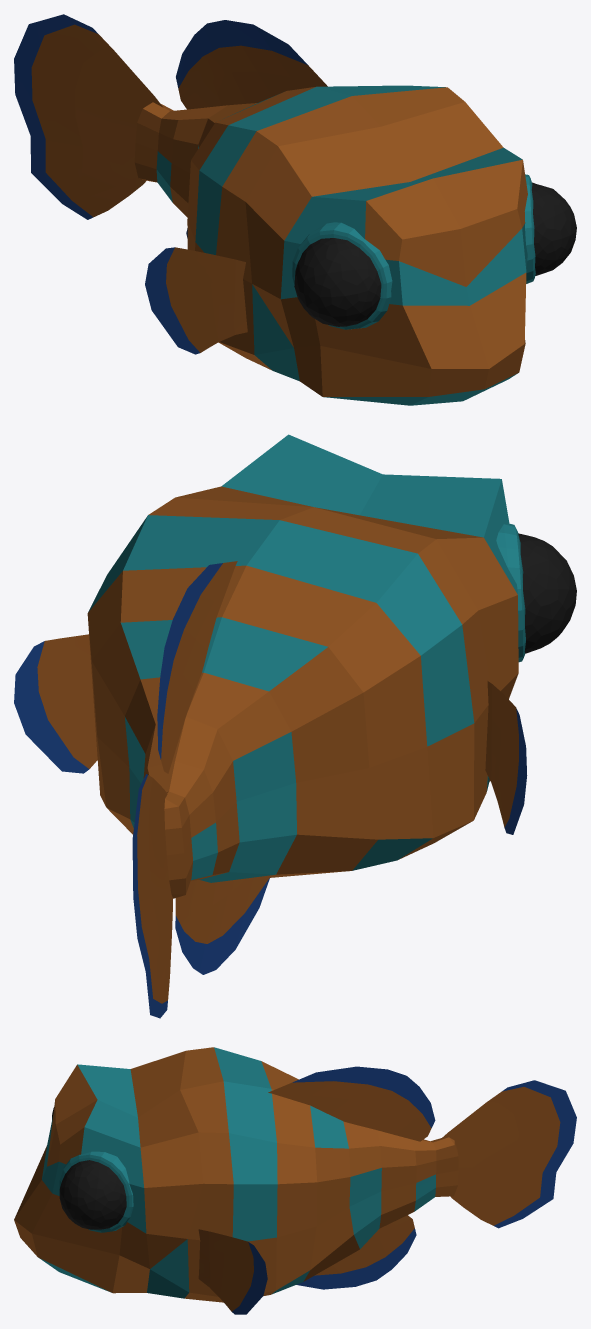
File: Mandarinfish.glb
3 views of the same model, one above another, from view 1: azimuth 30°, elevation 25°; view 2: azimuth 150°, elevation 25°; view 3: azimuth 270°, elevation 25° (orthographic). The views are drawn at different scales.
Parts seen in each view (by area): view 1: MandarinFish_Cube.108; view 2: MandarinFish_Cube.108; view 3: MandarinFish_Cube.108.
Part boxes in pixels (x1,y1,x2,y2): MandarinFish_Cube.108: [14, 14, 576, 405]; MandarinFish_Cube.108: [14, 434, 576, 1018]; MandarinFish_Cube.108: [14, 1047, 576, 1314].
Size of the model in its own units: 2.62 by 1.94 by 4.32.
